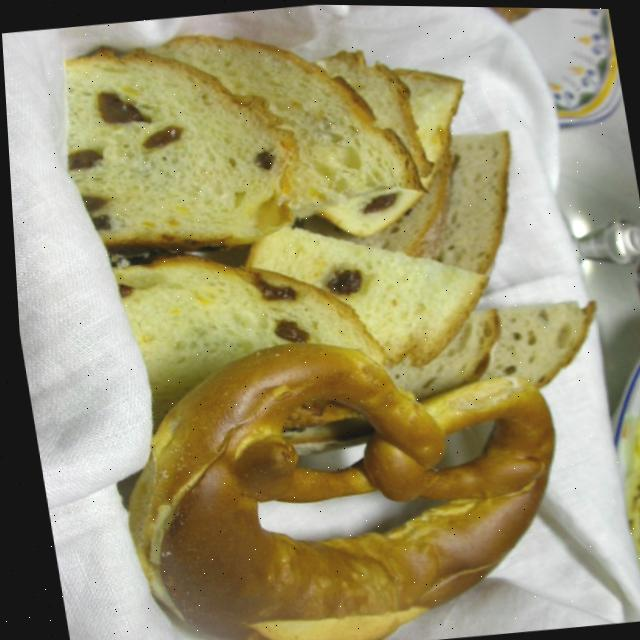面包点心: (39, 18, 604, 640)
